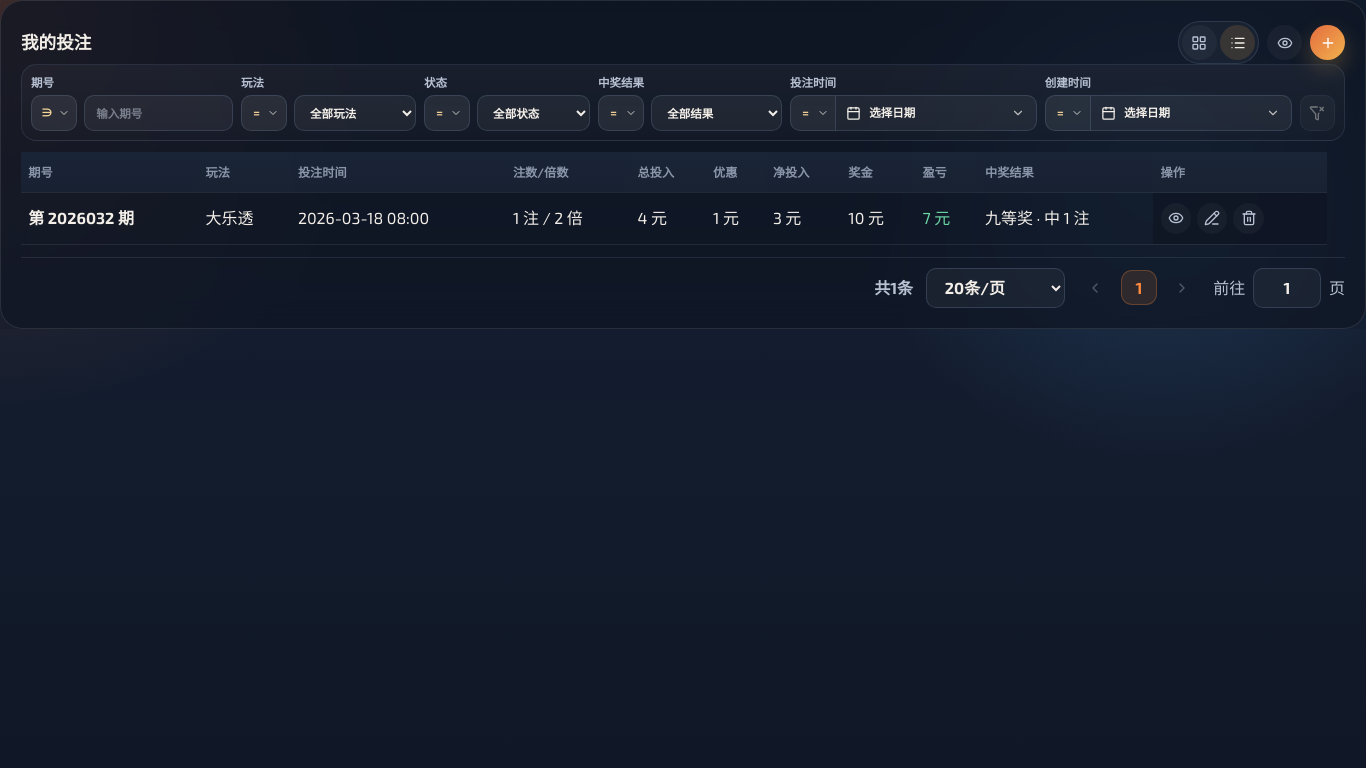
Test case: MyBetsPanel › opens the detail modal from the card detail action
Expected: the heading "我的投注" is shown, 21,29 -> 91,56
Click the button named "卡片视图" at (1199, 43), box 1182,25 -> 1217,60
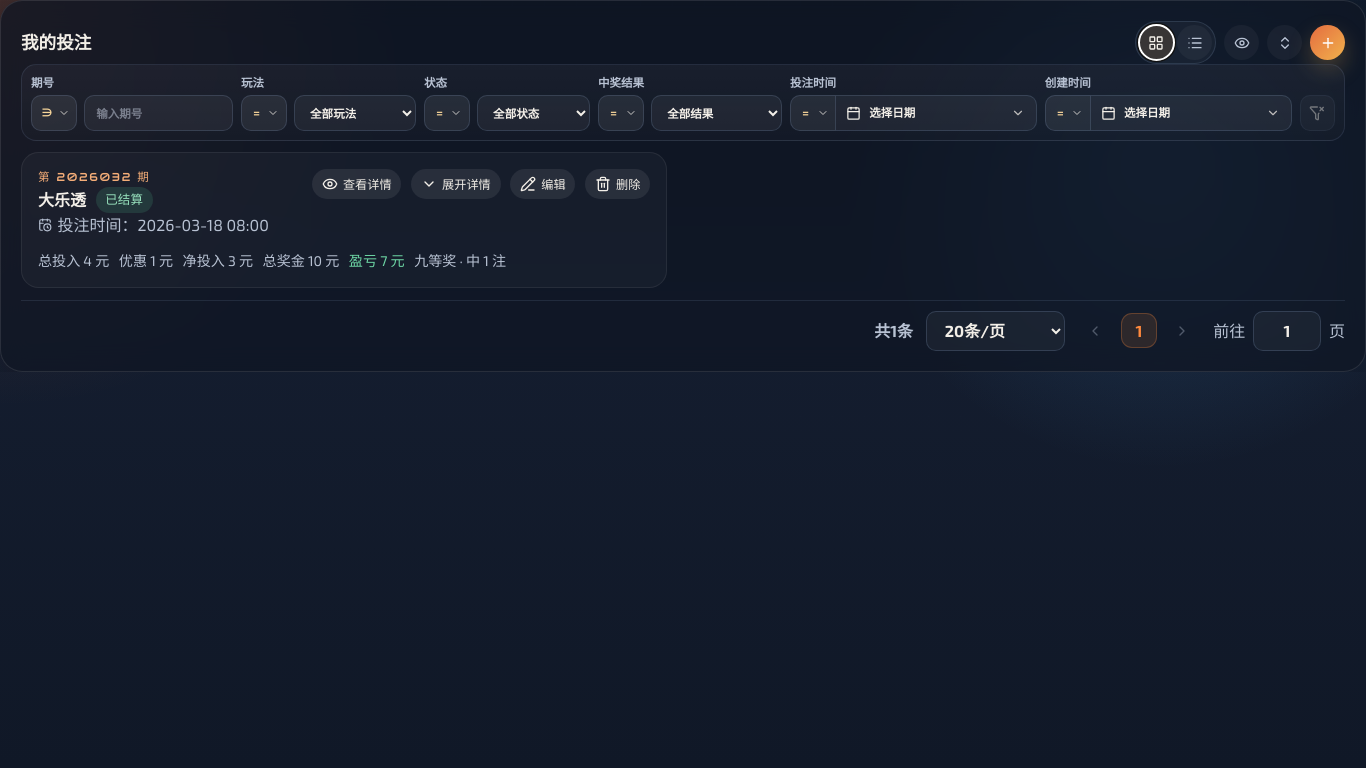
Click the button "查看详情" at (357, 184), box 312,169 -> 401,199
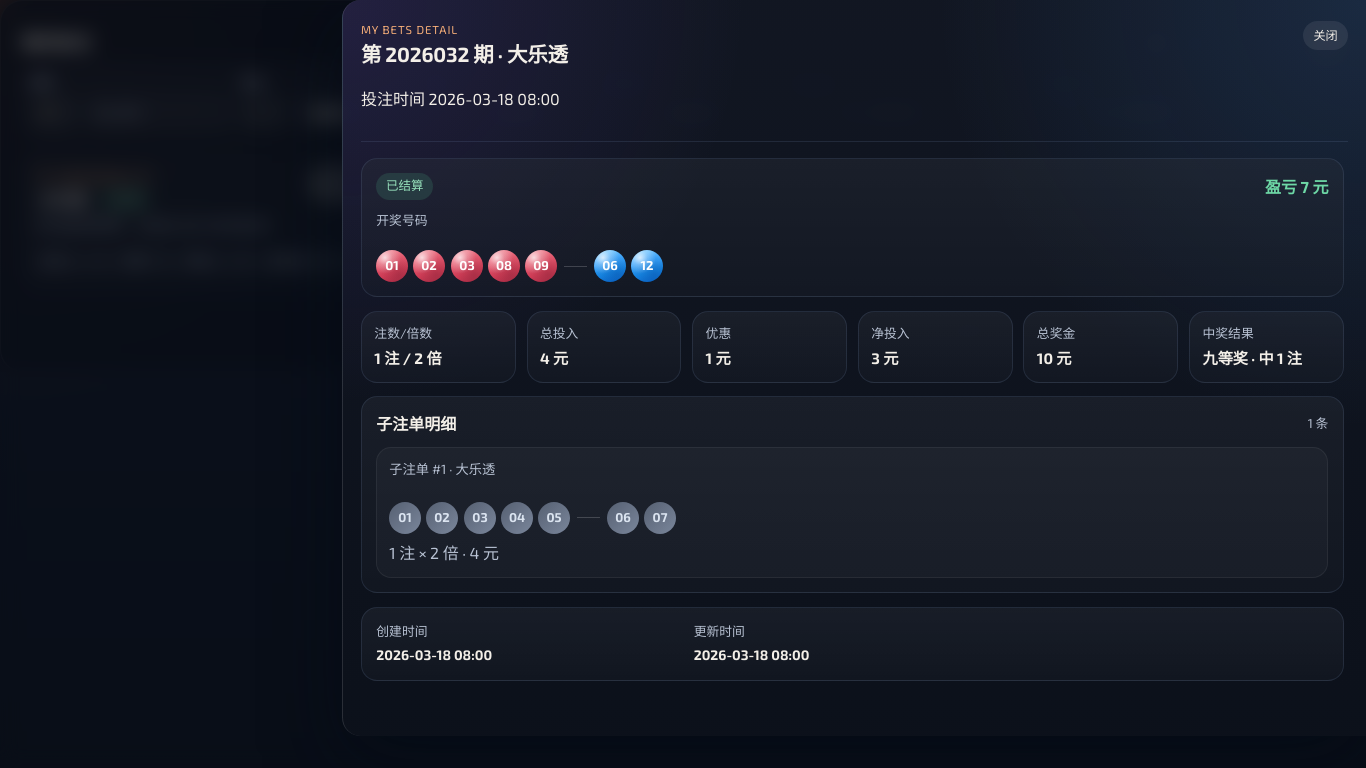
Expected: the text "子注单明细" is shown, 376,412 -> 456,436
